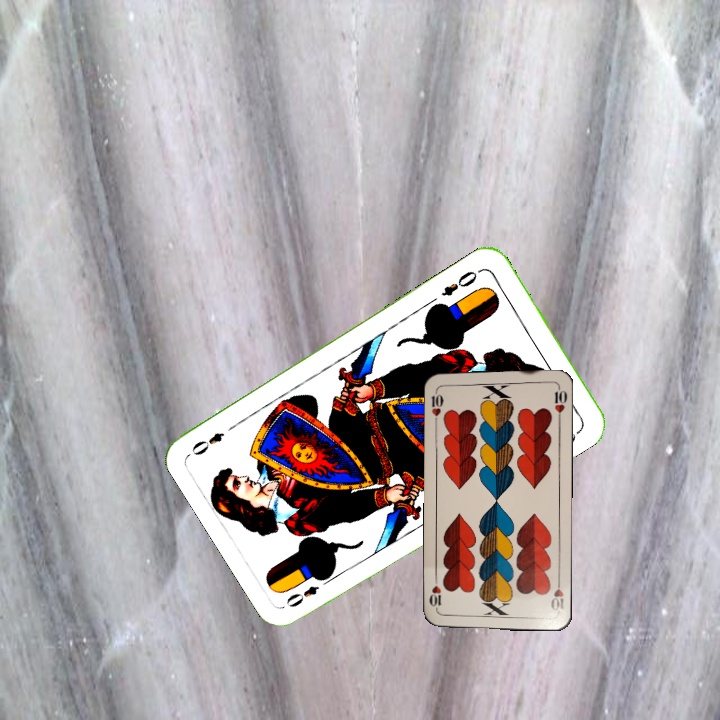EO: (437, 266, 480, 299), (281, 581, 322, 611)
H10: (547, 573, 567, 613), (427, 384, 446, 425)
